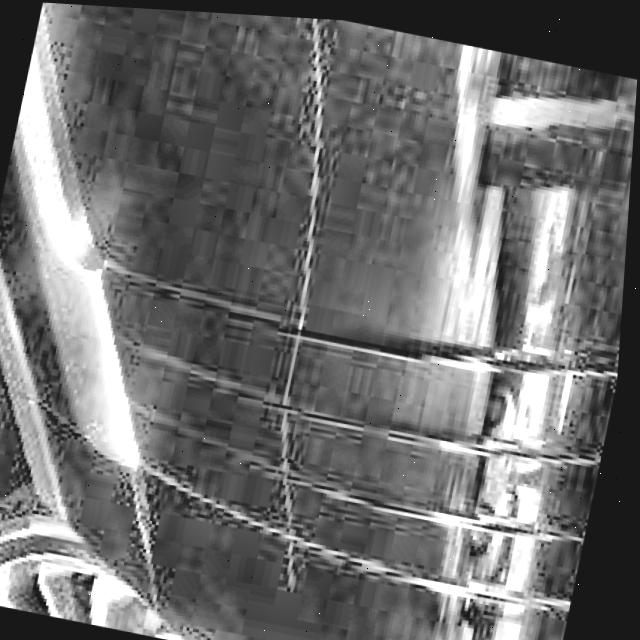door_scratch: (233, 282, 333, 553), (252, 16, 364, 255)
